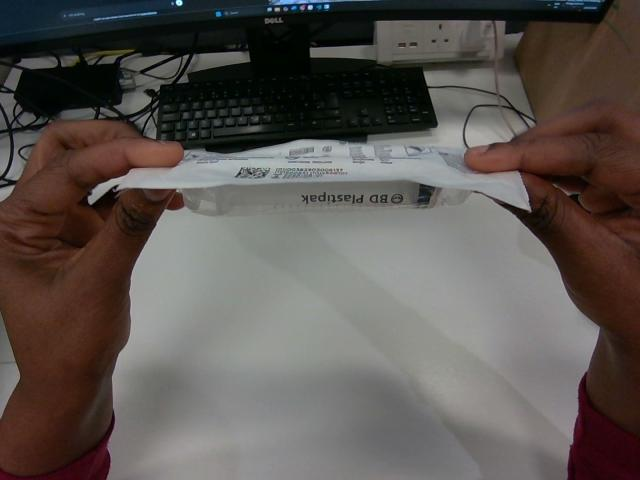syringe: (119, 140, 529, 215), (182, 181, 470, 215)
